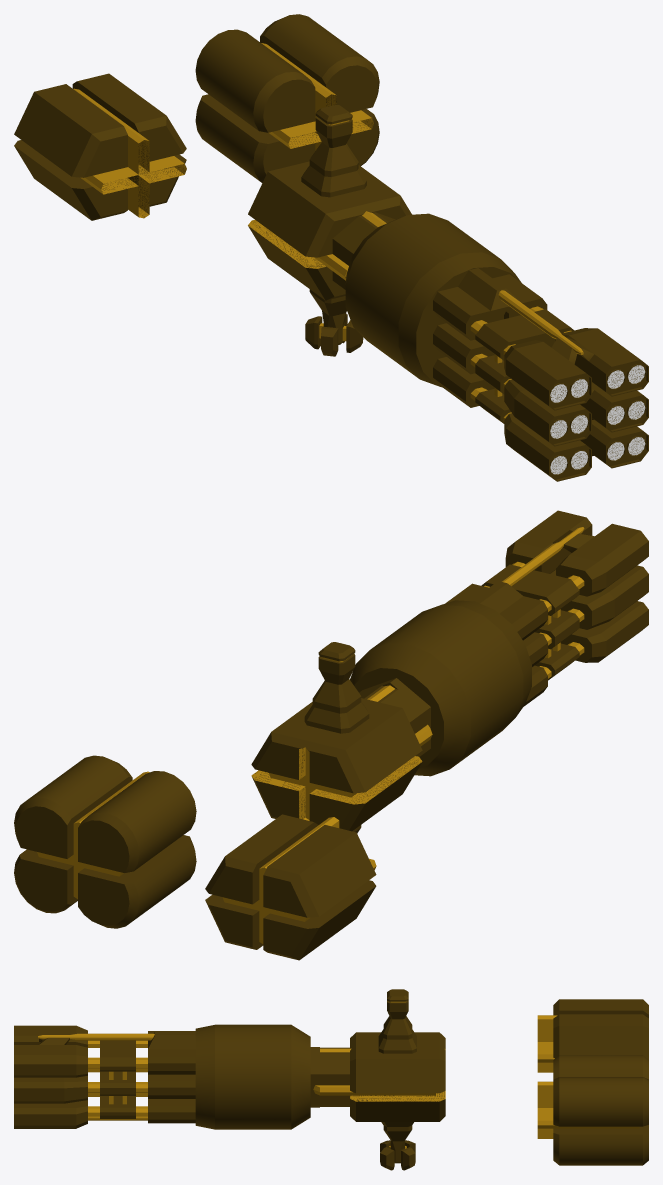
File: heavyfreighter.dae
The picture shows the model from 3 angles, top to bottom: view 1: azimuth 30°, elevation 25°; view 2: azimuth 150°, elevation 25°; view 3: azimuth 270°, elevation 25°; orthographic projection. The views are drawn at different scales.
Visible parts, largest first — view 1: Group_4 (×4), Group_12 (×2), Group_11 (×4), Group_15 (×4), Group_2 (×4), Group_6 (×3), Group_20, Group_16, Group_3 (×2), Group_7 (×2), Group_1, Group_9 (+3 smaller); view 2: Group_4 (×4), Group_12 (×2), Group_11 (×4), Group_15 (×9), Group_2 (×3), Group_16, Group_7 (×2), Group_3, Group_6, Group_20, Group_13, Group_1 (+2 smaller); view 3: Group_12 (×2), Group_4 (×3), Group_15 (×4), Group_2 (×3), Group_11 (×2), Group_6 (×2), Group_3, Group_7 (×2), Group_16, Group_1, Group_9, Group_20 (+5 smaller).
Part boxes in pixels (x1,y1,x2,y2): Group_4 (×4): (195,14,379,182); Group_12 (×2): (332,212,521,387); Group_11 (×4): (14,73,186,220); Group_15 (×4): (248,161,411,300); Group_2 (×4): (504,328,648,481); Group_6 (×3): (433,268,547,407); Group_20: (73,88,186,218); Group_16: (301,116,366,197); Group_3 (×2): (504,379,648,446); Group_7 (×2): (475,309,574,423); Group_1: (261,43,373,150); Group_9: (433,323,494,374); Group_4 (×4): (14,755,196,928); Group_12 (×2): (350,600,531,776); Group_11 (×4): (205,814,376,960); Group_15 (×9): (251,698,422,831); Group_2 (×3): (505,510,648,662); Group_16: (304,653,369,733); Group_7 (×2): (481,564,579,680); Group_3: (560,565,648,629); Group_6: (476,582,547,640); Group_20: (222,817,376,943); Group_13: (269,685,432,819); Group_1: (37,771,149,898); Group_12 (×2): (195,1024,349,1129); Group_4 (×3): (553,1055,648,1165); Group_15 (×4): (350,1032,445,1121); Group_2 (×3): (14,1025,87,1128); Group_11 (×2): (553,999,648,1058); Group_6 (×2): (148,1033,195,1123); Group_3: (14,1076,87,1103); Group_7 (×2): (100,1040,135,1118); Group_16: (378,1000,416,1053); Group_1: (537,1081,639,1138); Group_9: (148,1074,195,1098); Group_20: (537,1015,557,1072).
Bounding box in the file's own units: 16170 × 39825 × 11934.
